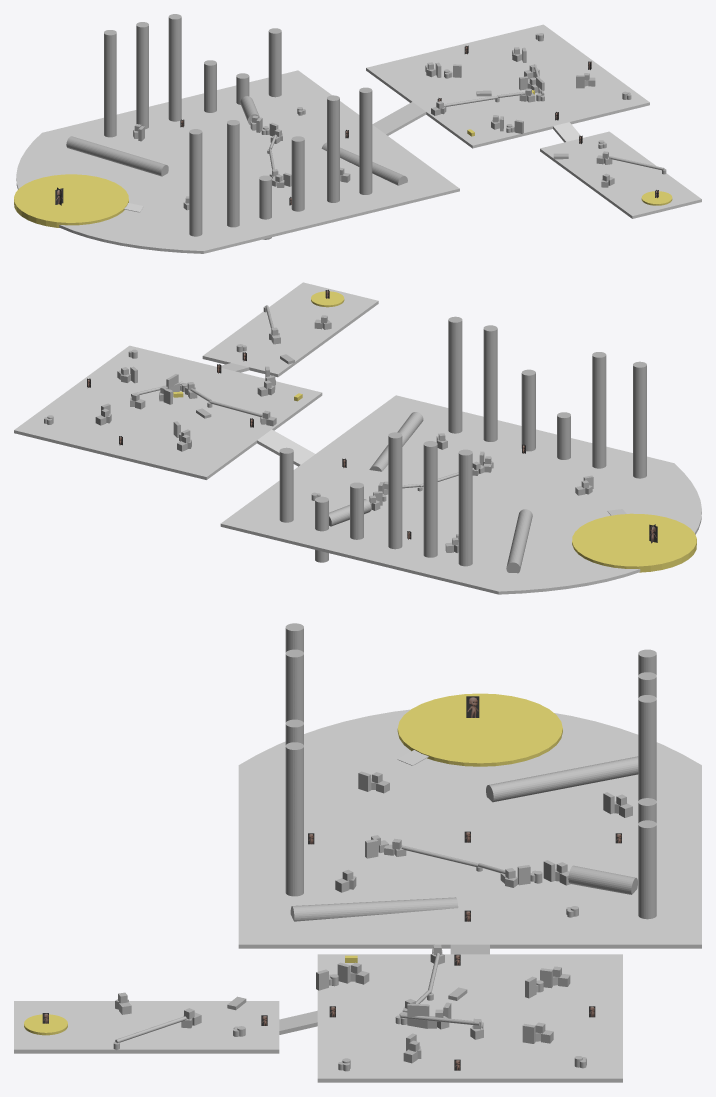
The model's file is Dungeon Layout.fbx.
The picture shows the model from 3 angles, top to bottom: view 1: azimuth 30°, elevation 25°; view 2: azimuth 150°, elevation 25°; view 3: azimuth 270°, elevation 25°; orthographic projection. The views are drawn at different scales.
Visible parts, largest first — view 1: Plane, Plane.002, Cylinder.020, Plane.001, Cylinder.014, Plane.003, Cylinder.013; view 2: Plane, Plane.002, Cylinder.020, Plane.001, Cylinder.014, Plane.003, Cylinder.013; view 3: Plane, Plane.002, Cylinder.020, Plane.001, Cylinder.014, Cylinder.013, Cylinder.019, Cylinder.
Boxes of the visible parts, box(x1,y1,x2,y2) form: Plane: box(16, 70, 459, 253); Plane.002: box(366, 24, 649, 148); Cylinder.020: box(66, 14, 372, 239); Plane.001: box(540, 131, 701, 218); Cylinder.014: box(14, 174, 128, 227); Plane.003: box(372, 102, 426, 135); Cylinder.013: box(321, 142, 407, 185); Plane: box(220, 395, 701, 594); Plane.002: box(14, 345, 322, 479); Cylinder.020: box(279, 316, 646, 573); Plane.001: box(202, 282, 378, 377); Cylinder.014: box(572, 513, 696, 572); Plane.003: box(257, 429, 314, 466); Cylinder.013: box(369, 412, 423, 471); Plane: box(238, 709, 701, 948); Plane.002: box(317, 954, 622, 1082); Cylinder.020: box(285, 623, 656, 919); Plane.001: box(14, 1001, 279, 1053); Cylinder.014: box(397, 693, 562, 766); Cylinder.013: box(290, 897, 458, 921); Cylinder.019: box(568, 865, 637, 894); Cylinder: box(24, 1014, 67, 1035).
Bounding box in the file's own units: 18903 × 4139 × 13739.
3 materials, 1 textured.
